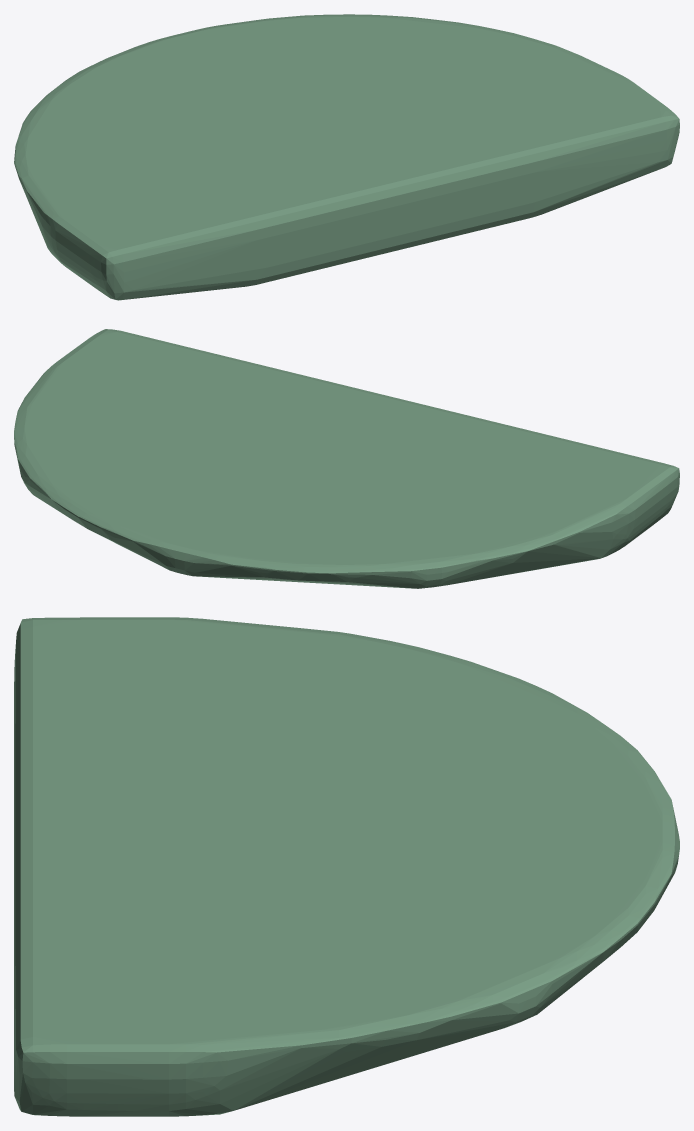
File: right_shoulder_yaw_link_part_0.obj
3 views of the same model, one above another, from view 1: azimuth 30°, elevation 25°; view 2: azimuth 150°, elevation 25°; view 3: azimuth 270°, elevation 25° (orthographic). The views are drawn at different scales.
Bounding box in the file's own units: 0.0984 × 0.0108 × 0.0632.
